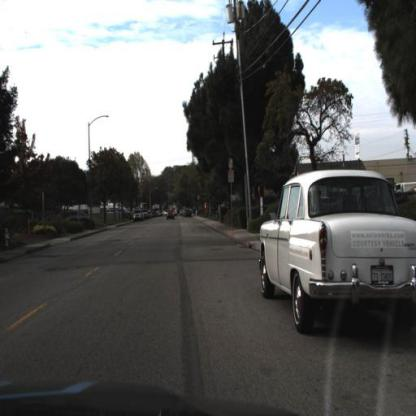car: (256, 167, 416, 339), (165, 205, 179, 224), (132, 209, 144, 224)
